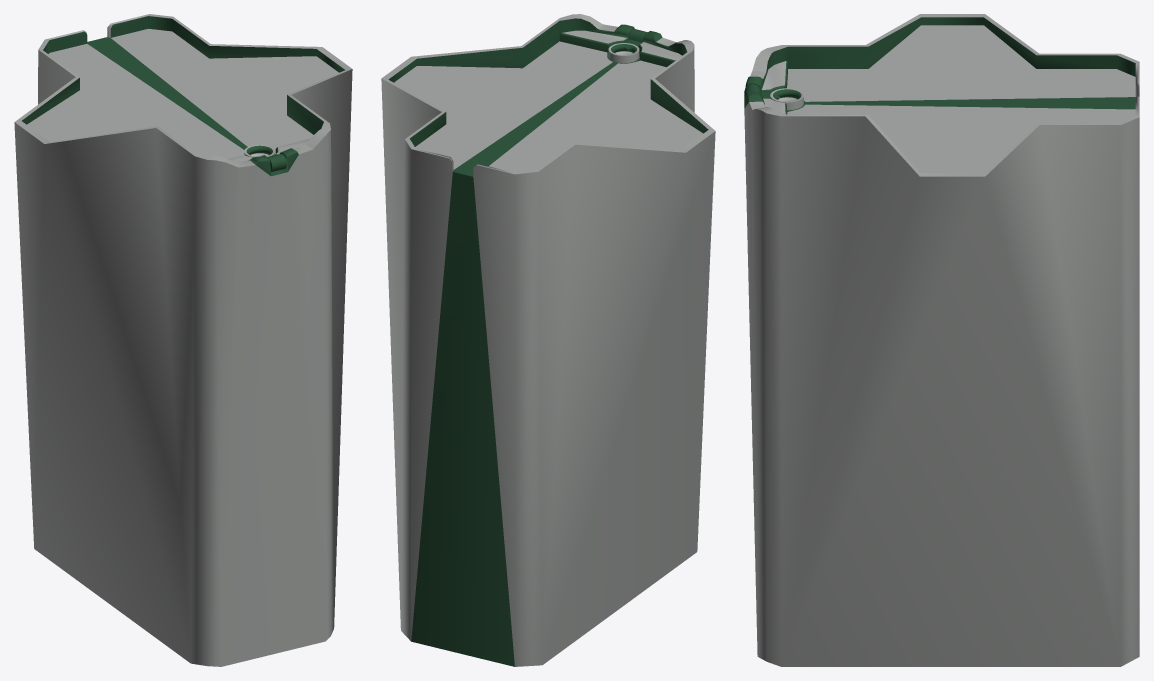
File: Arena_round_door_cross.fbx
The picture shows the model from 3 angles, left to right: view 1: azimuth 30°, elevation 25°; view 2: azimuth 150°, elevation 25°; view 3: azimuth 270°, elevation 25°; orthographic projection. The views are drawn at different scales.
Visible parts, largest first — view 1: arena, door; view 2: arena, door; view 3: arena, door.
Part boxes in pixels (box(x1,y1,x2,y2)): arena: box(14, 14, 352, 666); door: box(244, 144, 286, 172); arena: box(381, 14, 715, 666); door: box(608, 29, 647, 63); arena: box(744, 14, 1139, 666); door: box(744, 84, 803, 110).
Bounding box in the file's own units: 1962 × 3081 × 2013.
